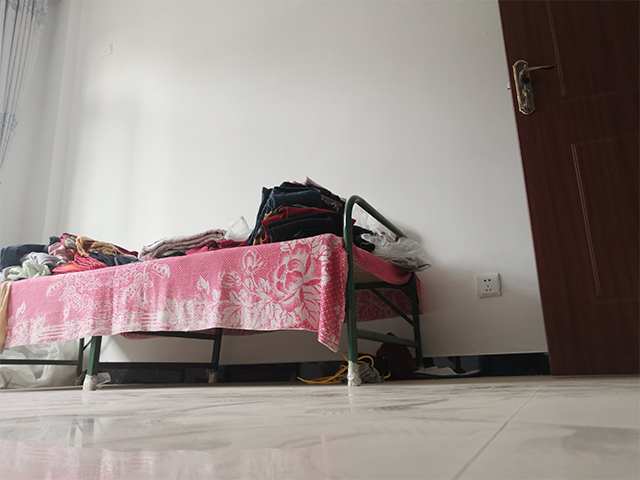bed: (1, 194, 425, 388)
slippers: (412, 363, 483, 380)
wire: (295, 349, 394, 387)
